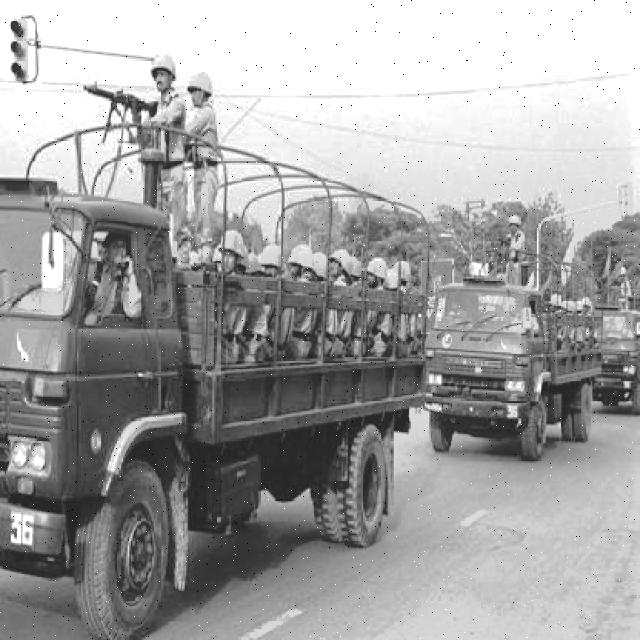HCV: (0, 159, 416, 543), (423, 247, 605, 426), (587, 292, 640, 391)
